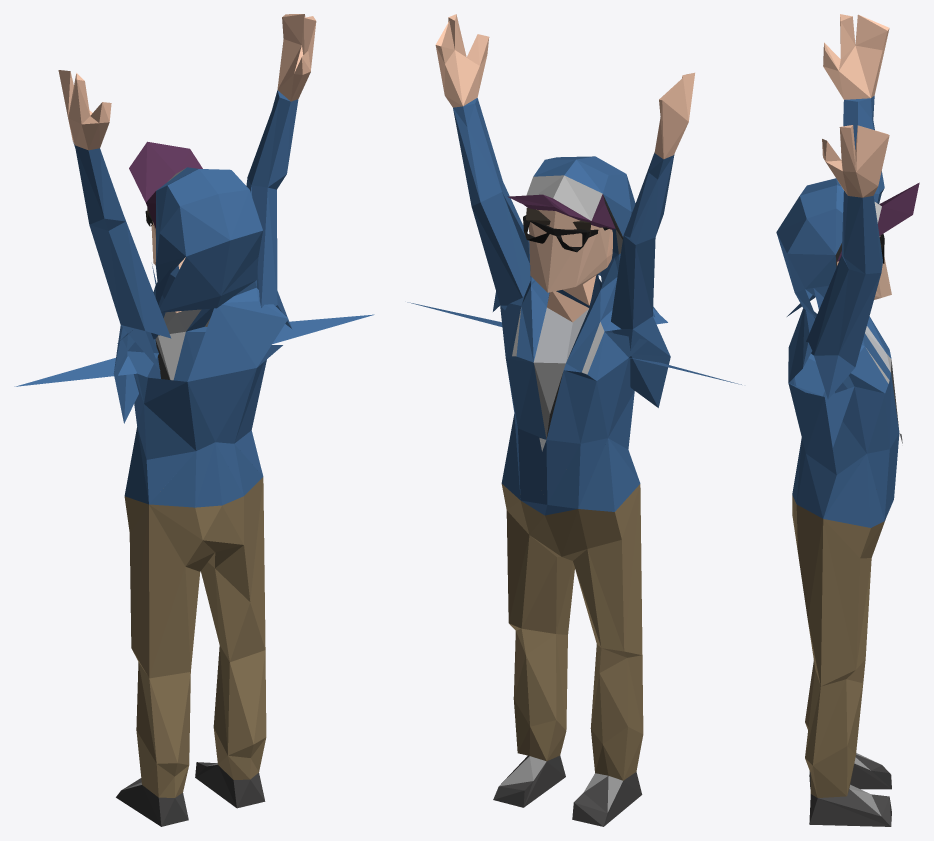
The model's file is Cousin_Arms_Up.obj.
The picture shows the model from 3 angles, left to right: view 1: azimuth 30°, elevation 25°; view 2: azimuth 150°, elevation 25°; view 3: azimuth 270°, elevation 25°; orthographic projection. The views are drawn at different scales.
Visible parts, largest first — view 1: Cousin_Arms_Up; view 2: Cousin_Arms_Up; view 3: Cousin_Arms_Up.
Part boxes in pixels (<box>): Cousin_Arms_Up: <box>14,14,374,826</box>; Cousin_Arms_Up: <box>407,14,741,826</box>; Cousin_Arms_Up: <box>776,14,919,826</box>.
Bounding box in the file's own units: 1.08 × 2.2 × 0.3906.
1 material, 1 textured.
